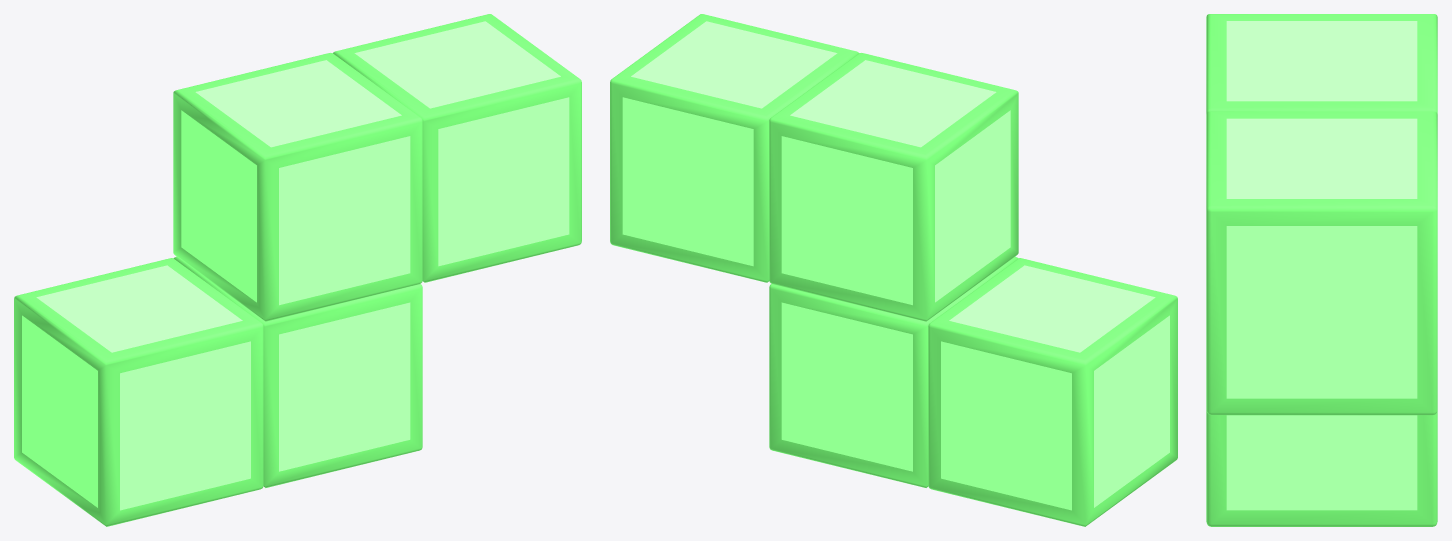
Rendered from S_block.glb.
The picture shows the model from 3 angles, left to right: view 1: azimuth 30°, elevation 25°; view 2: azimuth 150°, elevation 25°; view 3: azimuth 270°, elevation 25°; orthographic projection. The views are drawn at different scales.
Parts seen in each view (by area): view 1: FuwaSuisei_Tetris07_FuwaSuiseiItems_0; view 2: FuwaSuisei_Tetris07_FuwaSuiseiItems_0; view 3: FuwaSuisei_Tetris07_FuwaSuiseiItems_0.
Part boxes in pixels (x1,y1,x2,y2): FuwaSuisei_Tetris07_FuwaSuiseiItems_0: [14, 14, 581, 526]; FuwaSuisei_Tetris07_FuwaSuiseiItems_0: [610, 14, 1177, 526]; FuwaSuisei_Tetris07_FuwaSuiseiItems_0: [1206, 14, 1437, 526].
Bounding box in the file's own units: 1.25 × 0.8309 × 0.4155.
1 material, 1 textured.
